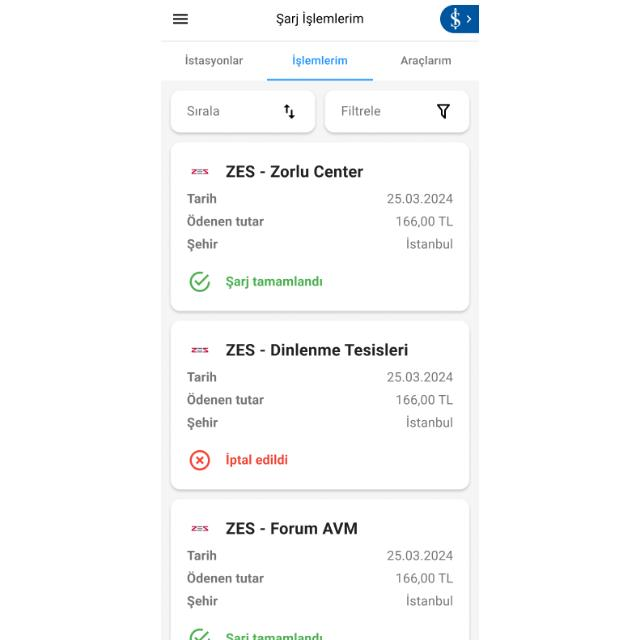QLabel: (220, 340, 412, 360), (224, 162, 366, 184), (224, 519, 362, 539), (272, 10, 368, 30), (222, 275, 322, 289), (184, 391, 268, 407), (383, 188, 457, 206), (184, 569, 266, 585), (384, 370, 456, 386), (185, 214, 267, 228), (182, 52, 245, 70), (388, 392, 458, 408), (222, 452, 290, 468), (390, 213, 456, 229), (223, 630, 325, 640), (385, 549, 455, 563), (286, 54, 352, 68), (392, 572, 454, 586), (401, 415, 457, 429), (401, 236, 455, 250), (402, 594, 456, 608), (399, 55, 453, 69), (340, 104, 382, 118), (181, 416, 221, 430), (186, 547, 218, 563), (186, 104, 222, 118), (185, 192, 221, 206), (183, 595, 219, 609), (184, 237, 218, 251), (186, 371, 218, 385)
VAppBar: (161, 1, 479, 42)
VCard: (167, 318, 471, 492), (170, 142, 470, 312), (167, 497, 471, 639), (324, 91, 470, 135), (170, 92, 316, 134)
VIcon: (185, 448, 213, 472), (187, 269, 213, 293), (185, 626, 213, 640), (280, 102, 298, 121), (433, 102, 452, 120), (171, 10, 189, 26)
VImg: (440, 4, 480, 34), (186, 158, 214, 182), (186, 338, 214, 359), (185, 518, 213, 538)
VTabs: (161, 44, 479, 640)
